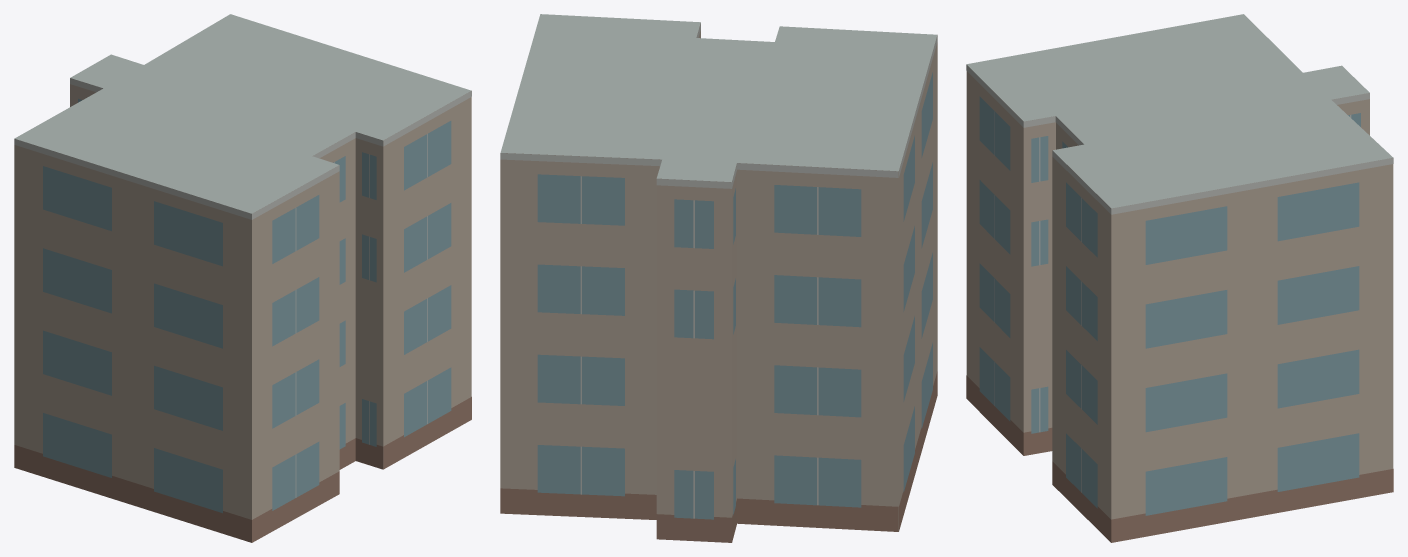
The model's file is survey-upis-32607860.glb.
The picture shows the model from 3 angles, left to right: view 1: azimuth 30°, elevation 25°; view 2: azimuth 150°, elevation 25°; view 3: azimuth 270°, elevation 25°; orthographic projection. The views are drawn at different scales.
Visible parts, largest first — view 1: survey-upis-32607860.tmp; view 2: survey-upis-32607860.tmp; view 3: survey-upis-32607860.tmp.
Boxes of the visible parts, x1,y1,x2,y2 form: survey-upis-32607860.tmp: (14,14,471,542); survey-upis-32607860.tmp: (500,14,937,542); survey-upis-32607860.tmp: (966,14,1393,542).
Size of the model in its own units: 16.29 by 13.05 by 15.11.
